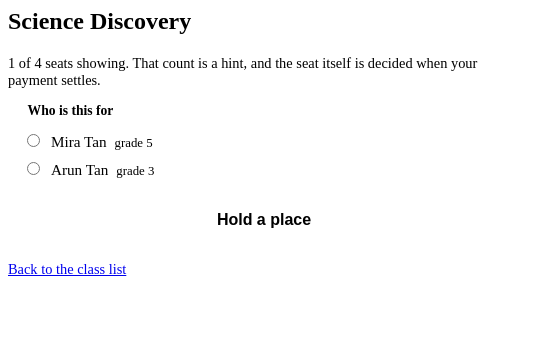
Test: the booking screen › edge: a failure with no booking behind it offers no link to nowhere
Click the radio button with test id "child-option" showing "Mira Tan grade 5" at (34,141), box top-left (27, 134), bottom-right (40, 147)
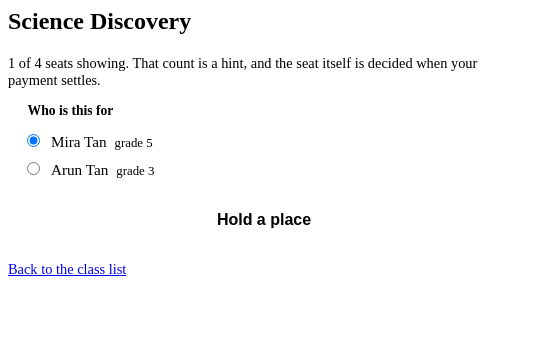
Click the button with test id "book-submit" at (264,220), box top-left (8, 203), bottom-right (520, 237)
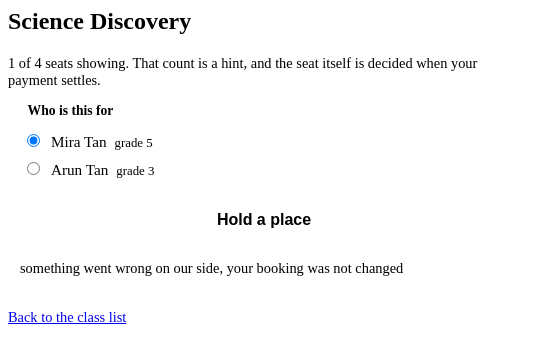
Now the message "something went wrong on our side, your booking was not changed" is shown, box top-left (20, 260), bottom-right (403, 276)
